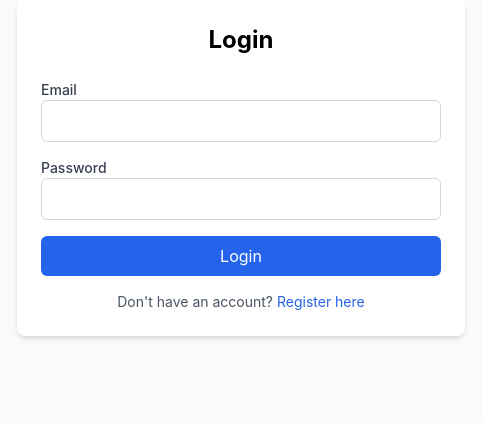
it: Login Component › shows error when submitting empty form
Step 1. Click the button "Login" → click(241, 256), box [41,236,441,276]
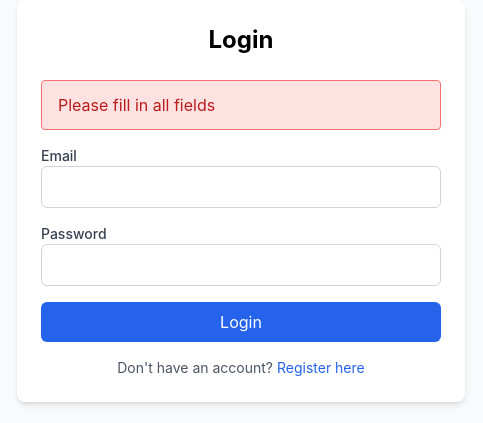
Check: the text "Please fill in all fields" is shown, box [41,80,441,130]
